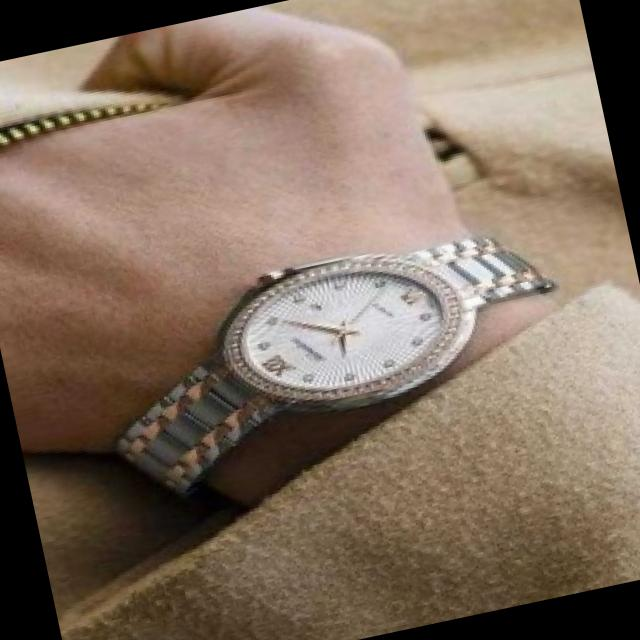saat: (78, 204, 588, 516)
